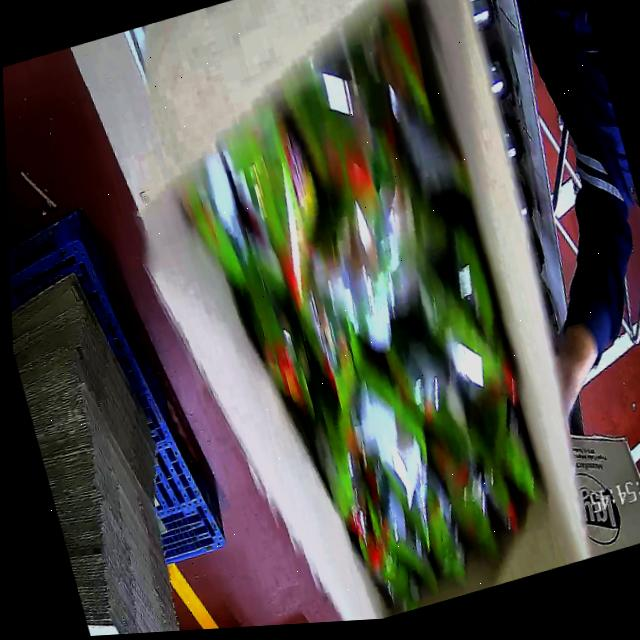YOGURT_HERB: (176, 45, 569, 630)
